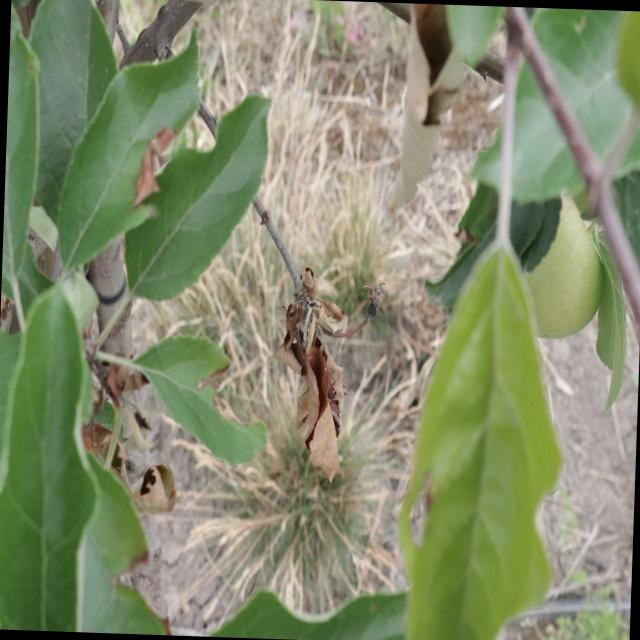-FireBlight-: (277, 277, 364, 491), (80, 373, 183, 507)
